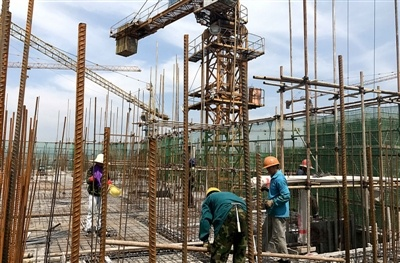none: (95, 152, 107, 168)
red: (300, 158, 313, 172)
yellow: (263, 156, 280, 174), (204, 186, 221, 199)
